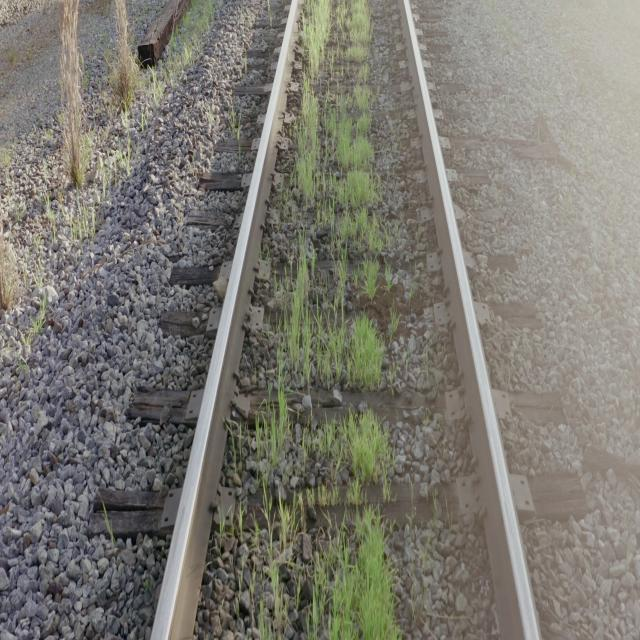Plant: (256, 0, 398, 638)
